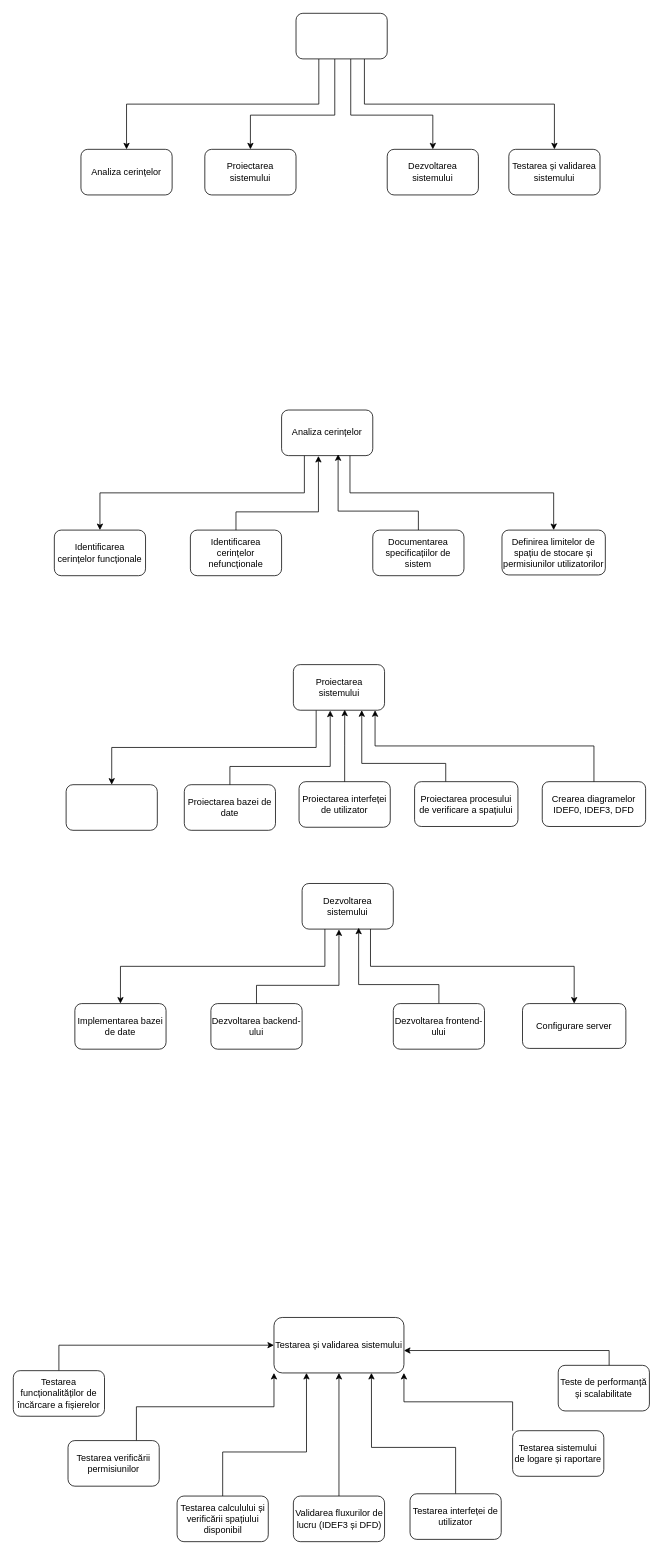
Image size: 663x1555. Some labels were removed from this diagram. The centre of each missing label's shape, as x and y in pixels:
Arhitectura generală a sistemului: the point at 111,807
Sistem pentru gestionarea fișierelor: the point at 341,36
